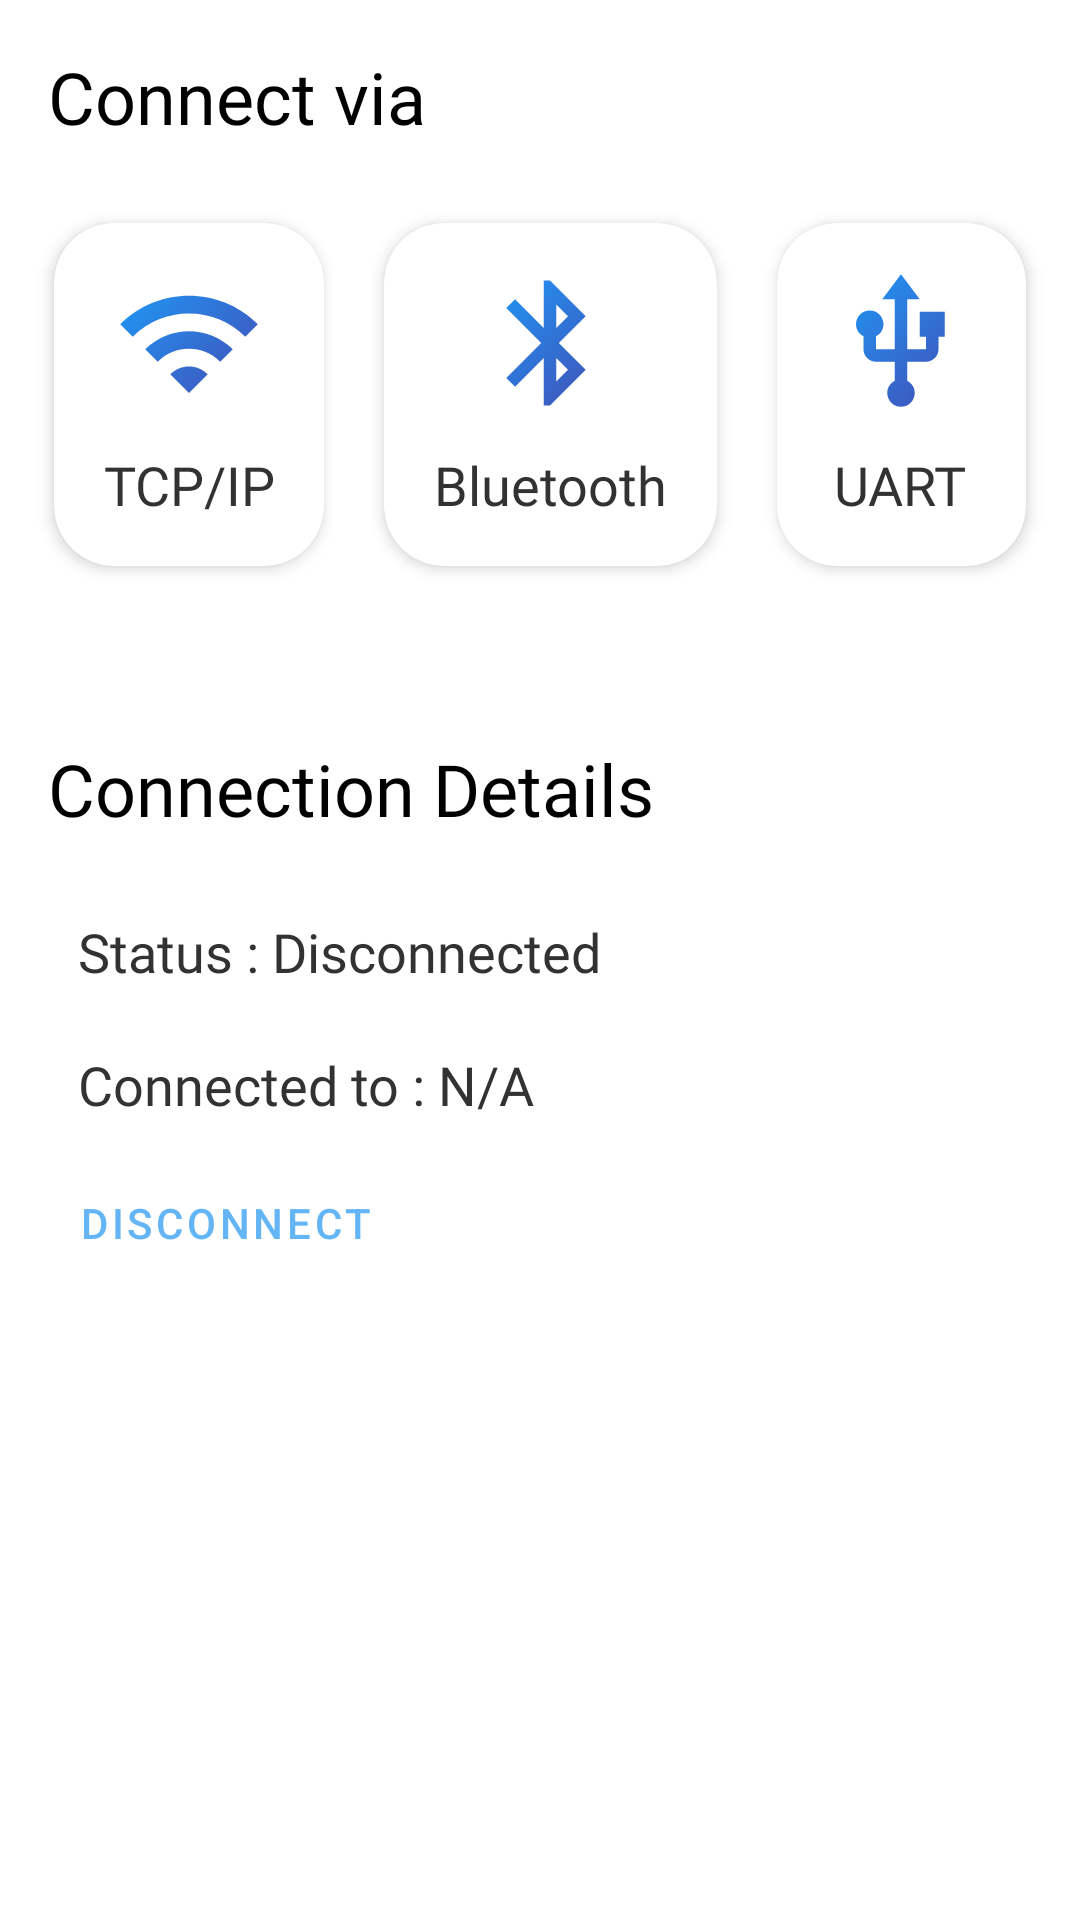

Icons on this 1080×1920 Android screen, each with its box as (x1, y1, x2, y2):
usb: (856, 274, 945, 407)
